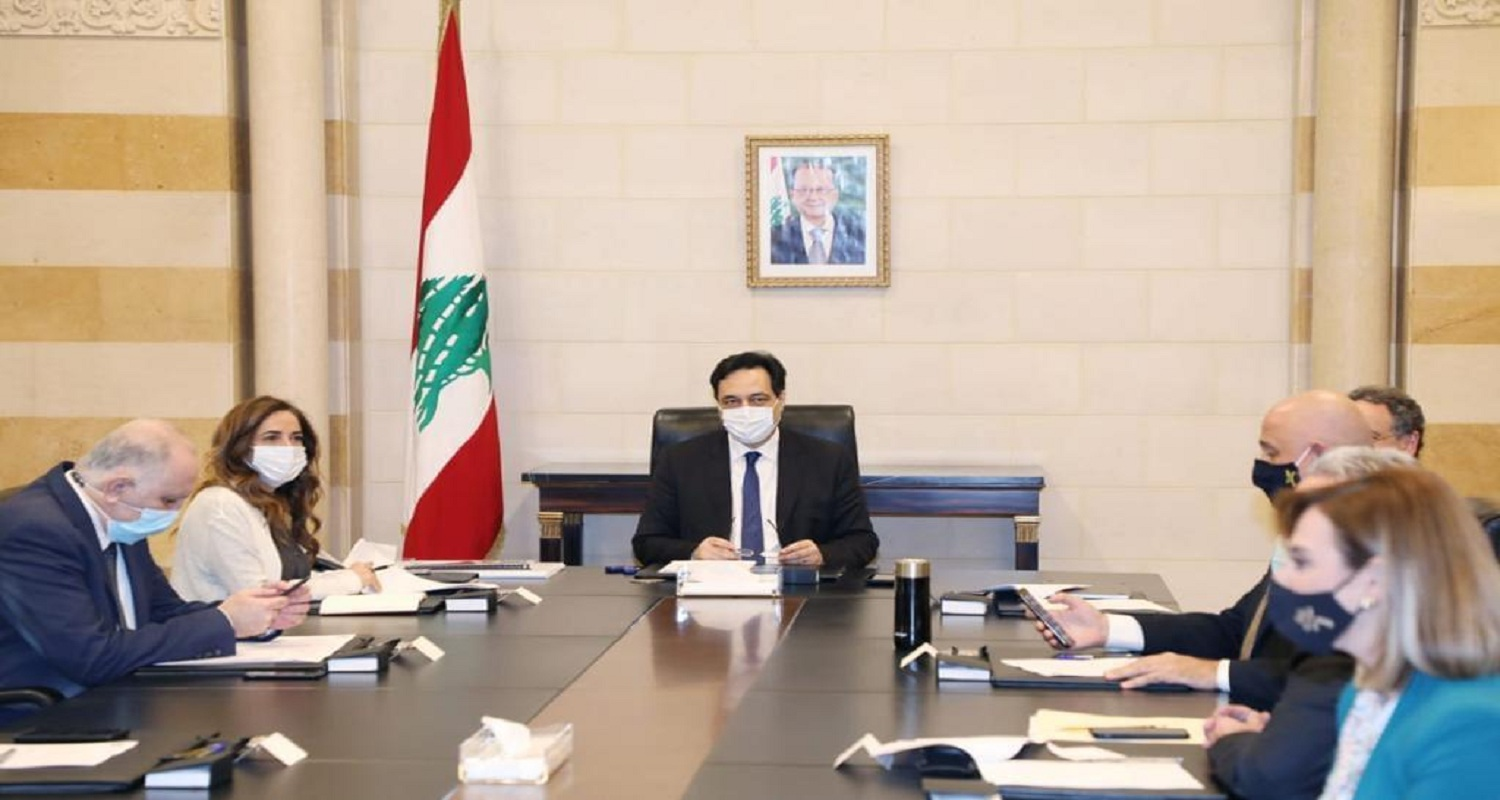with_mask: (1290, 530, 1354, 650), (113, 481, 183, 537), (1260, 428, 1304, 509), (724, 381, 774, 439), (259, 422, 304, 478)
